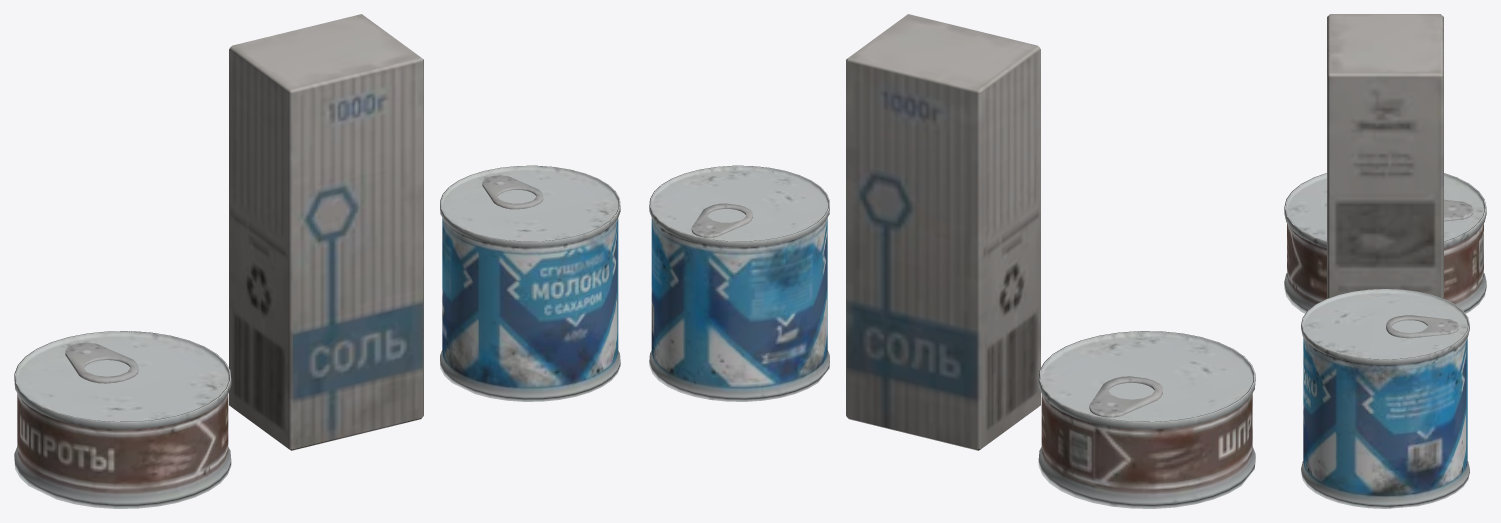
The model's file is cans.glb.
The picture shows the model from 3 angles, left to right: view 1: azimuth 30°, elevation 25°; view 2: azimuth 150°, elevation 25°; view 3: azimuth 270°, elevation 25°; orthographic projection. The views are drawn at different scales.
Visible parts, largest first — view 1: russian_food_cans_01_salt_box, russian_food_cans_01_can_cond, russian_food_cans_01_can_fish; view 2: russian_food_cans_01_salt_box, russian_food_cans_01_can_cond, russian_food_cans_01_can_fish; view 3: russian_food_cans_01_can_cond, russian_food_cans_01_salt_box, russian_food_cans_01_can_fish.
Part boxes in pixels (<box>): russian_food_cans_01_salt_box: <box>229,14,423,450</box>; russian_food_cans_01_can_cond: <box>440,165,620,401</box>; russian_food_cans_01_can_fish: <box>14,331,231,508</box>; russian_food_cans_01_salt_box: <box>846,14,1040,450</box>; russian_food_cans_01_can_cond: <box>649,165,829,401</box>; russian_food_cans_01_can_fish: <box>1038,331,1255,508</box>; russian_food_cans_01_can_cond: <box>1301,288,1469,508</box>; russian_food_cans_01_salt_box: <box>1327,14,1443,298</box>; russian_food_cans_01_can_fish: <box>1284,173,1486,313</box>.
Size of the model in its own units: 0.1424 by 0.0849 by 0.0462.
Materials: 1 (1 with a texture image).
